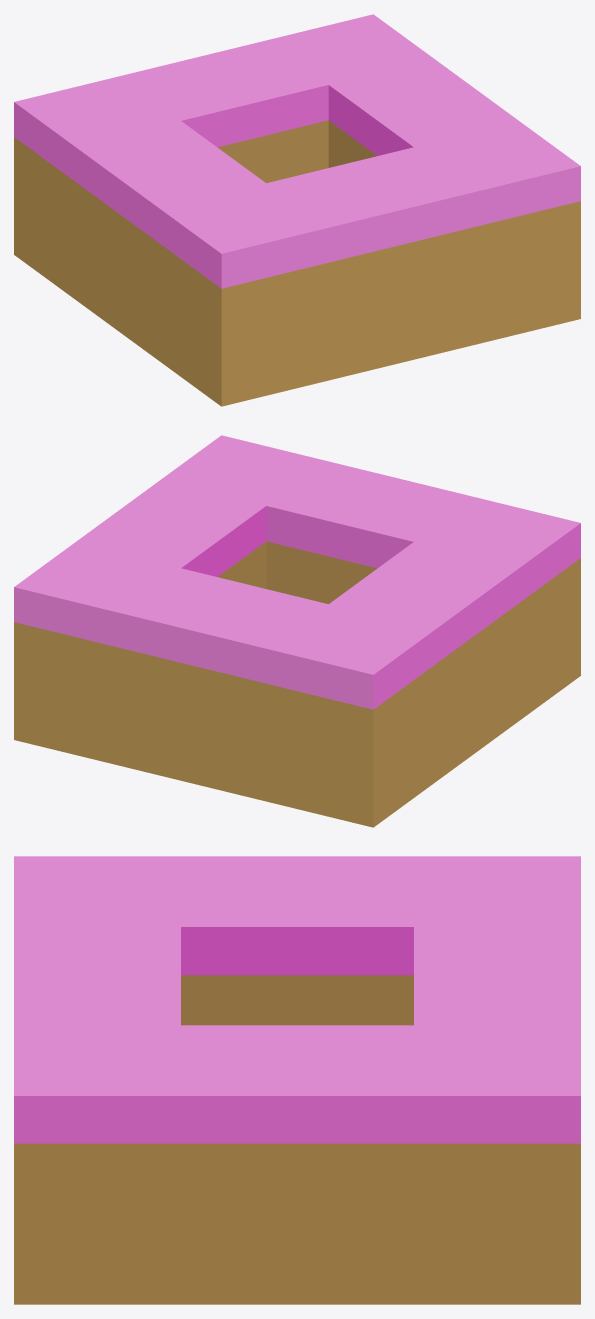
The model's file is Donut2.glb.
3 renders of one model, top to bottom at view 1: azimuth 30°, elevation 25°; view 2: azimuth 150°, elevation 25°; view 3: azimuth 270°, elevation 25°, orthographic. The views are drawn at different scales.
Parts seen in each view (by area): view 1: SI_Food_Bakery_Donut_02; view 2: SI_Food_Bakery_Donut_02; view 3: SI_Food_Bakery_Donut_02.
Boxes of the visible parts, x1,y1,x2,y2 form: SI_Food_Bakery_Donut_02: (14, 14, 580, 406); SI_Food_Bakery_Donut_02: (14, 435, 580, 827); SI_Food_Bakery_Donut_02: (14, 856, 580, 1304).
Size of the model in its own units: 0.00426 by 0.00173 by 0.00426.
Materials: 1 (1 with a texture image).
